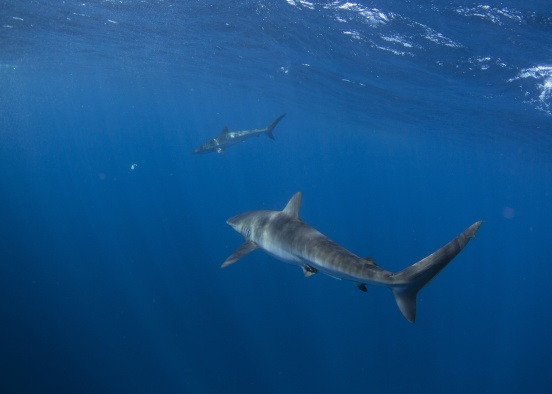Sedoso: (200, 191, 488, 335)
